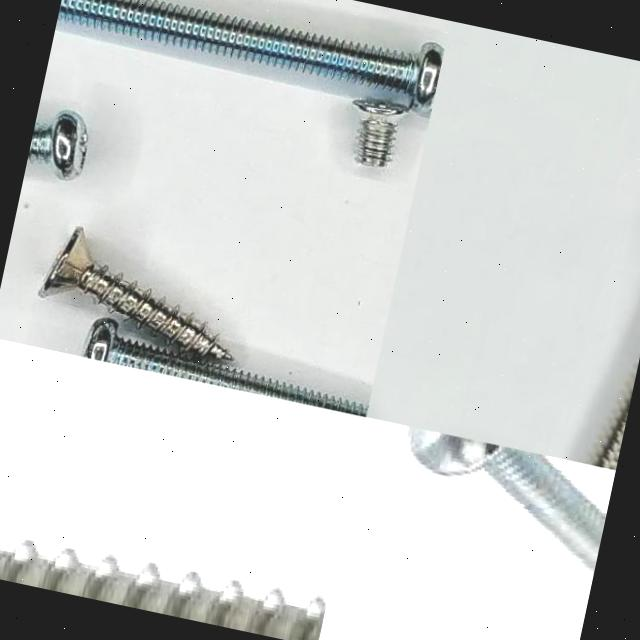Screw: (57, 0, 444, 109), (0, 538, 327, 640), (405, 426, 607, 575), (82, 318, 368, 417), (39, 228, 232, 360), (26, 111, 88, 179), (354, 98, 409, 169)
